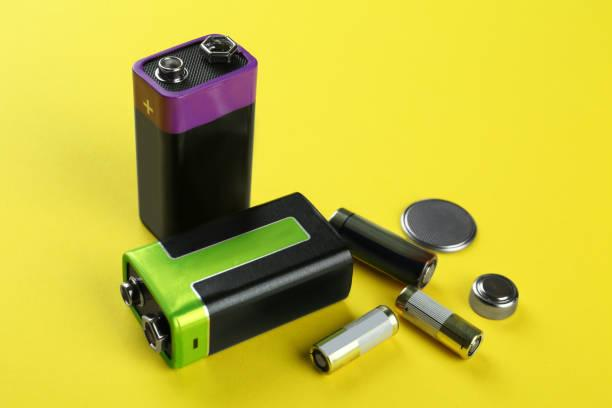9V Battery: (119, 192, 354, 370)
